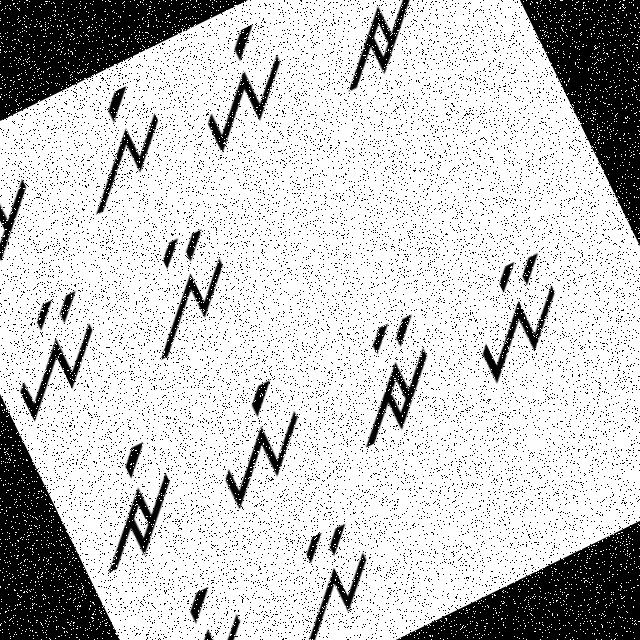lan: (105, 218, 256, 370), (244, 512, 403, 639)
lang: (47, 69, 192, 220), (123, 574, 280, 639)
ran: (312, 301, 468, 464), (289, 0, 448, 107)
rang: (52, 425, 209, 581), (0, 137, 67, 290)
yan: (436, 230, 594, 388), (0, 277, 129, 428)
yang: (180, 363, 336, 520), (161, 5, 313, 162)
